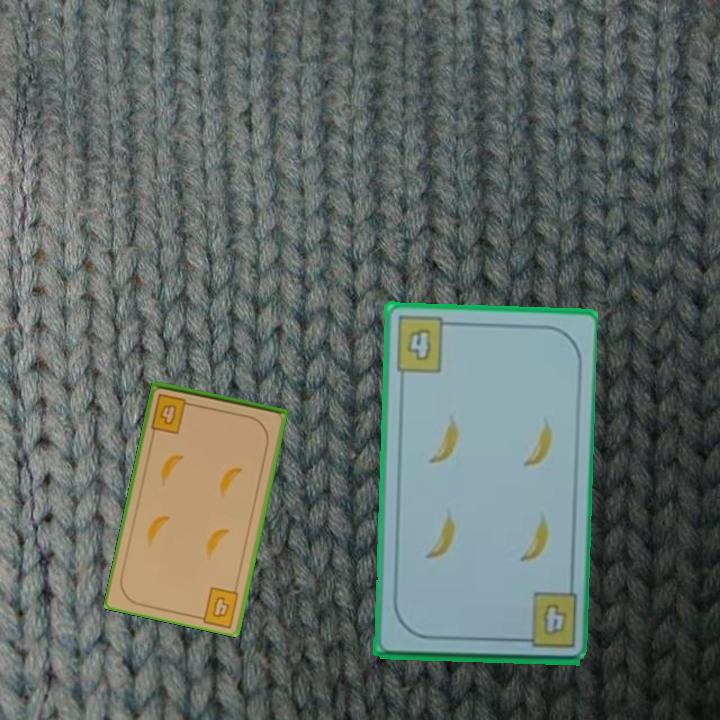4b: (513, 589, 579, 651), (392, 313, 456, 375), (147, 390, 197, 436), (209, 593, 233, 621)
